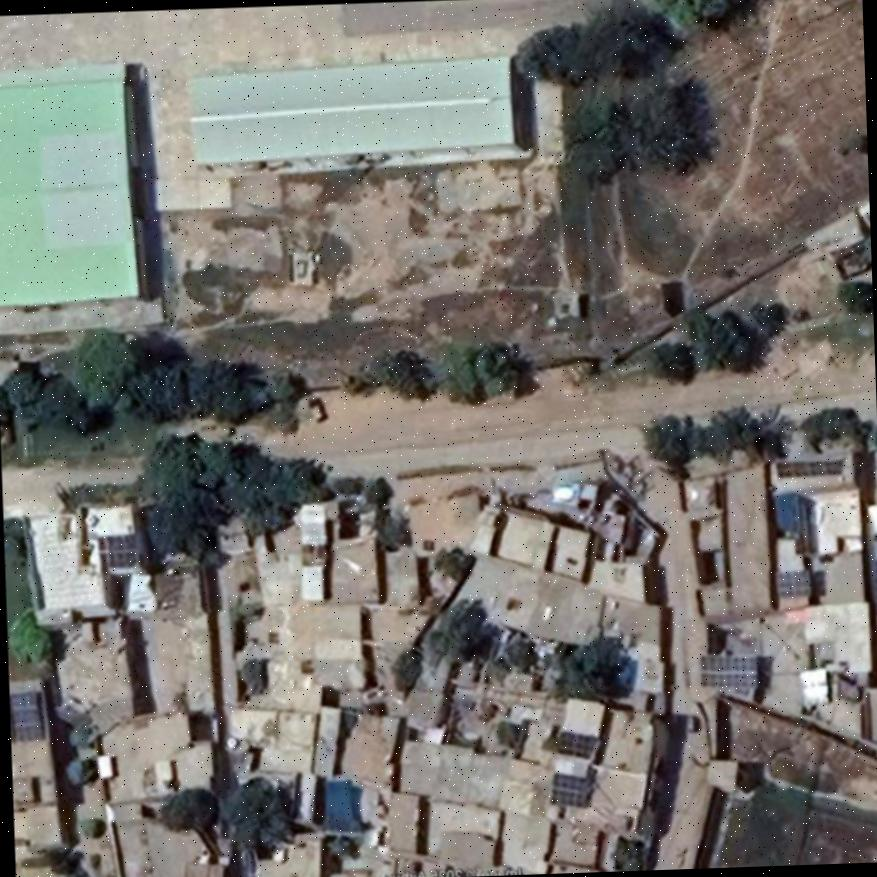Solarpanel: (699, 654, 757, 686), (548, 768, 592, 806), (10, 693, 43, 738), (555, 728, 596, 759), (95, 533, 133, 565), (771, 568, 809, 596), (873, 564, 877, 618)
